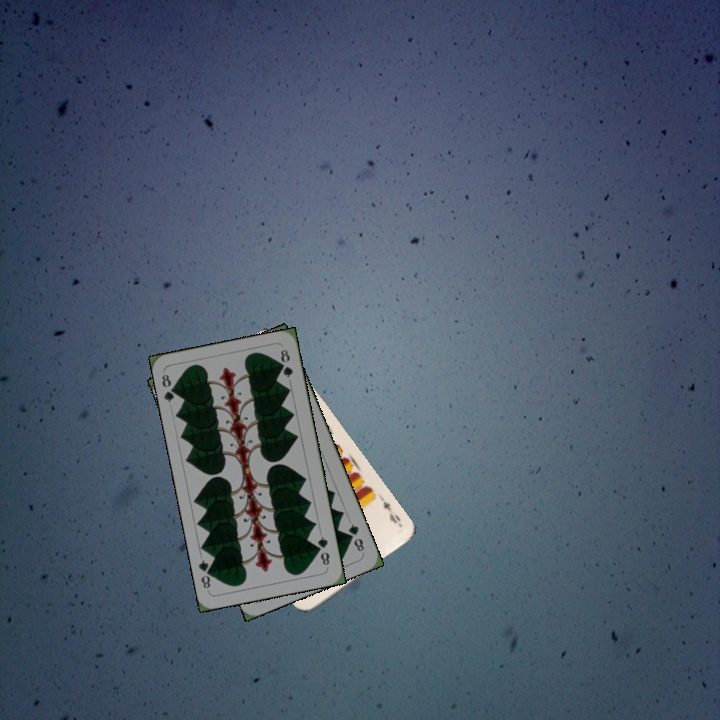E9: (376, 492, 404, 529)
G8: (344, 519, 367, 554), (157, 370, 180, 405), (313, 533, 332, 568)
